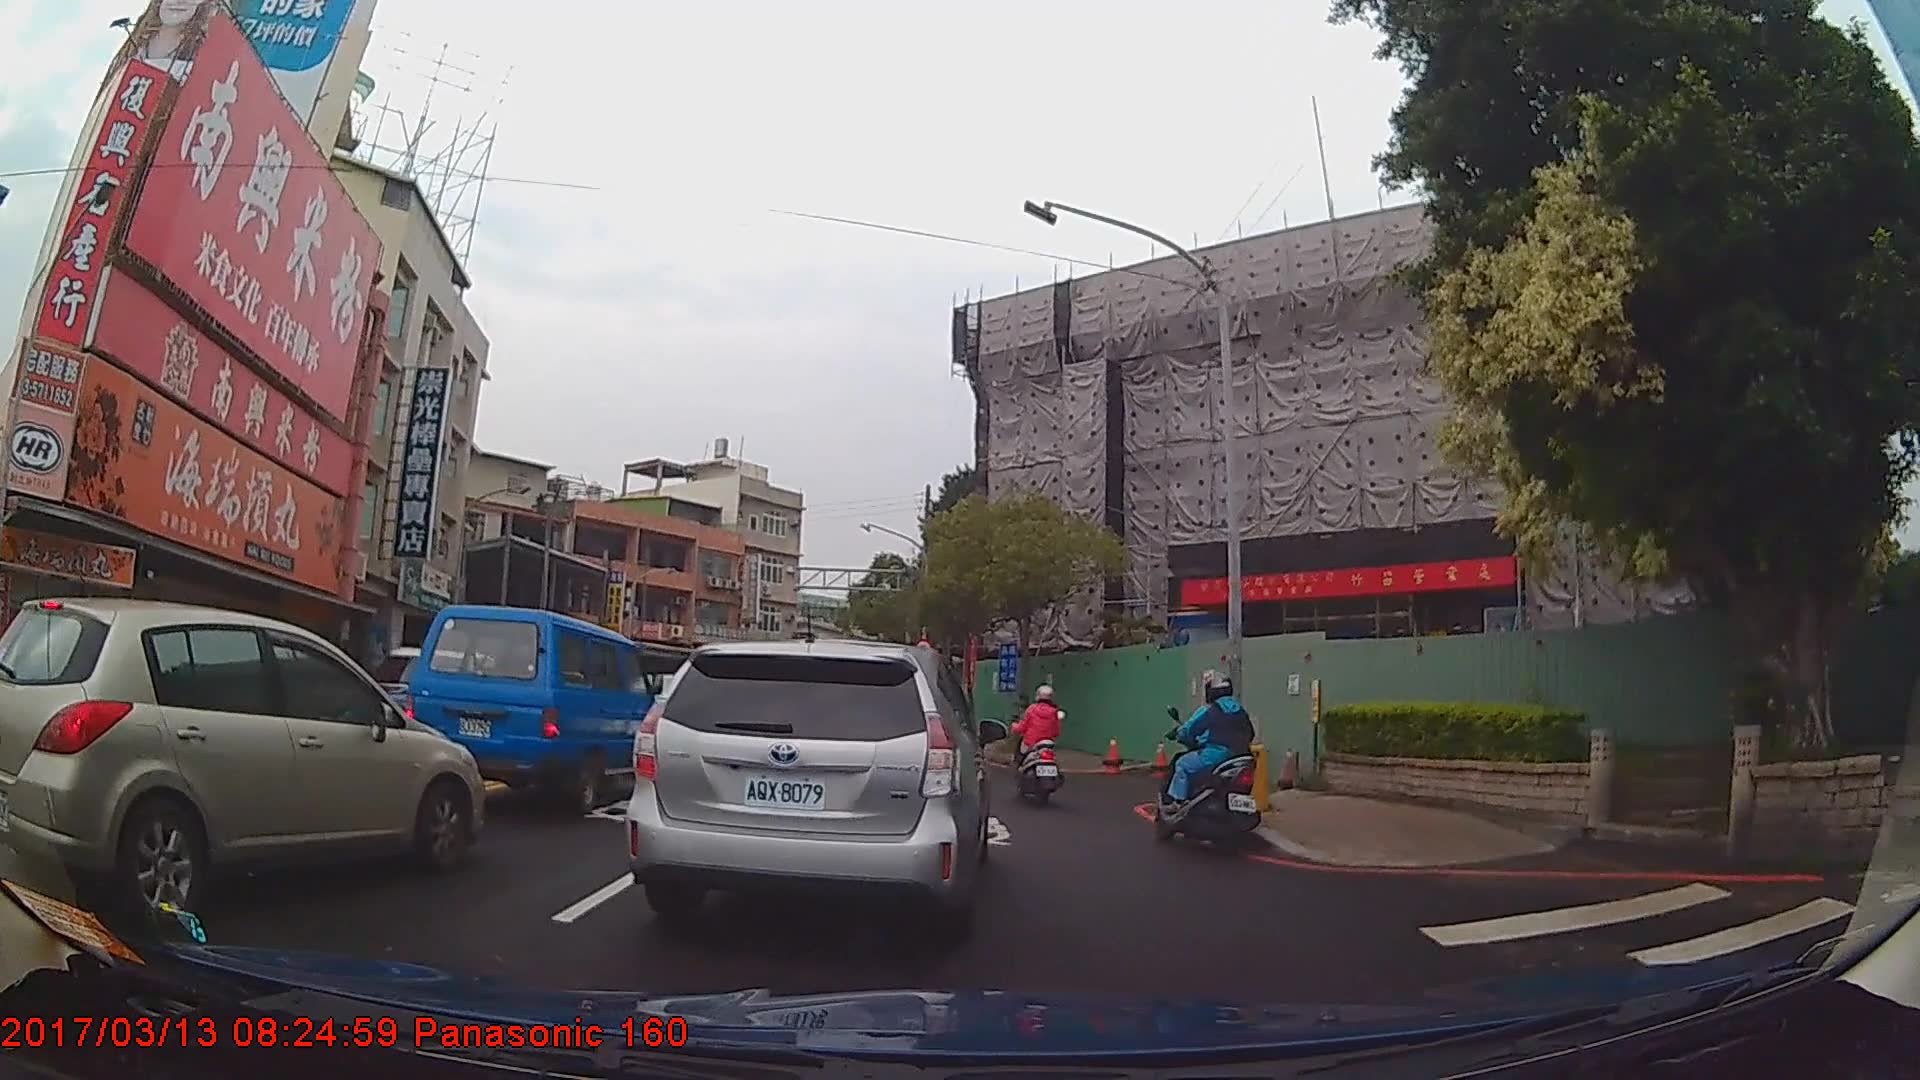rider: (1162, 673, 1268, 852), (1005, 685, 1067, 798)
vehicle: (0, 591, 482, 927), (623, 633, 991, 945), (406, 602, 670, 813)
